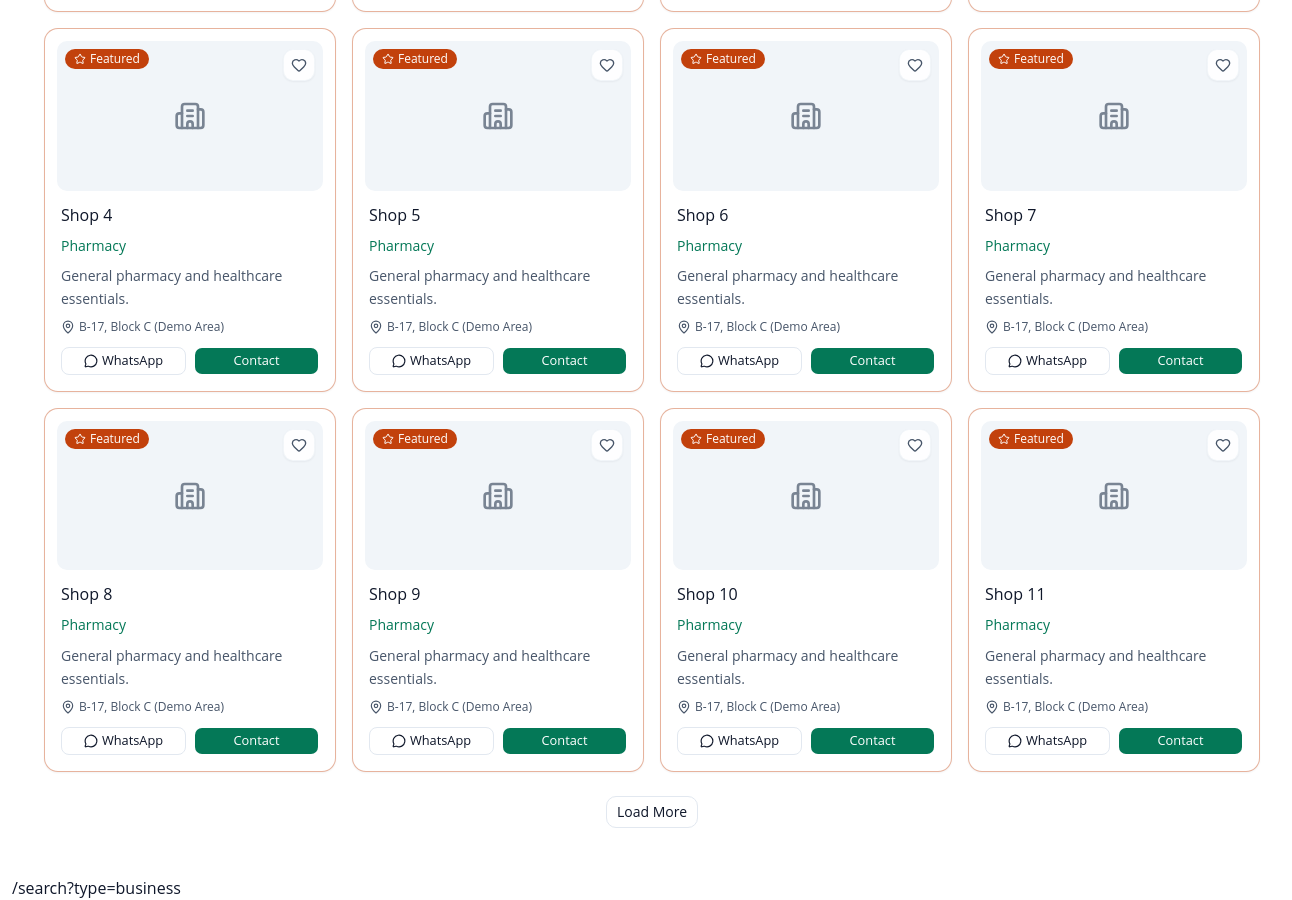
SearchPage (real data) › Load more fetches the next server page and appends it; the total stays the server's
(page scrolled)
What coordinates should you click on to do the following:
click the button "Load More"
I would click on:
 (652, 812)
Its box is [606,796,698,828].
(page scrolled)
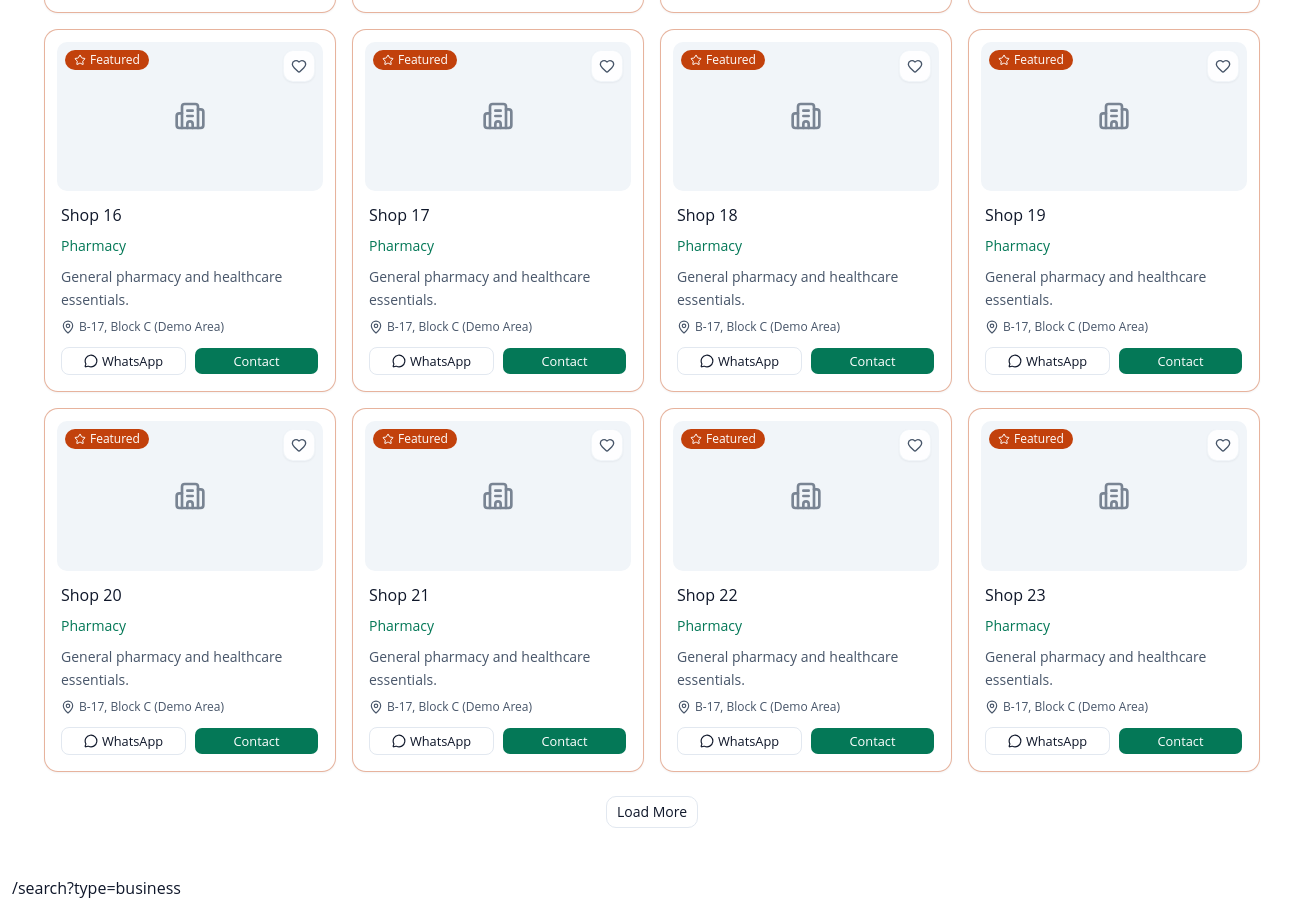
What coordinates should you click on to do the following:
click the button "Load More"
I would click on:
 (652, 812)
Its box is [606,796,698,828].
(page scrolled)
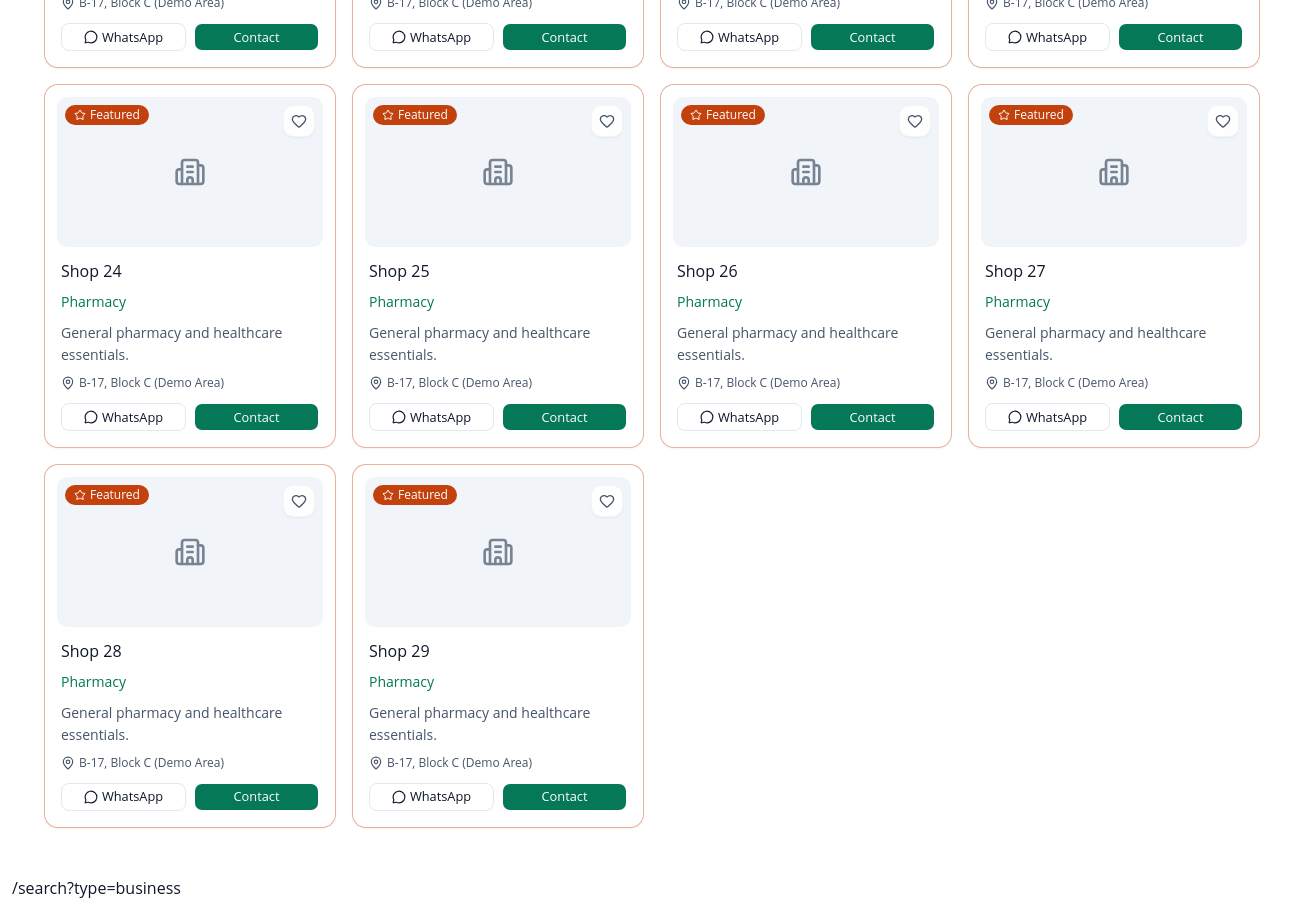
Expected: the text "Shop 29" is shown, [369,639,430,663]
Expected: the button "Load More" is gone
